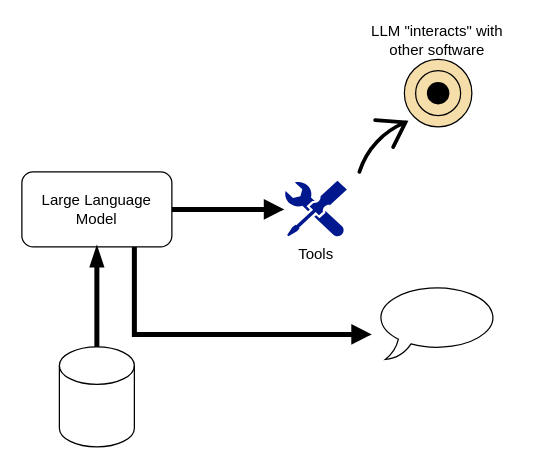
The diagram is 538 pixels wide and 469 high, and some of its shapes have lost their labels. The centre of each missing label's shape, as x and y in pixels:
LLM Result: [437,321]
Memory: [96,396]
